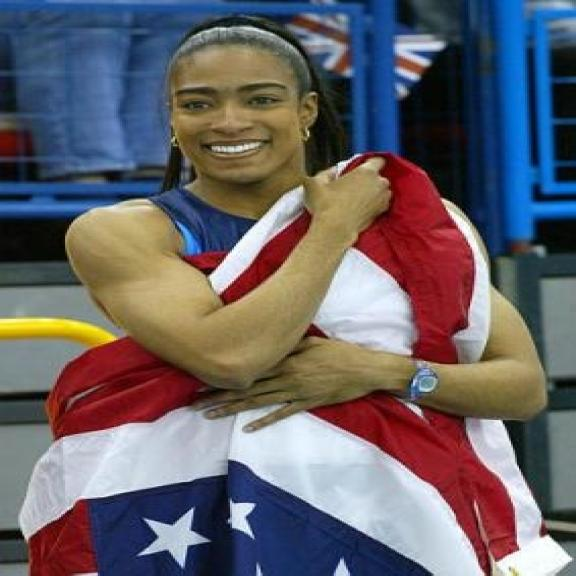face: (170, 42, 320, 192)
